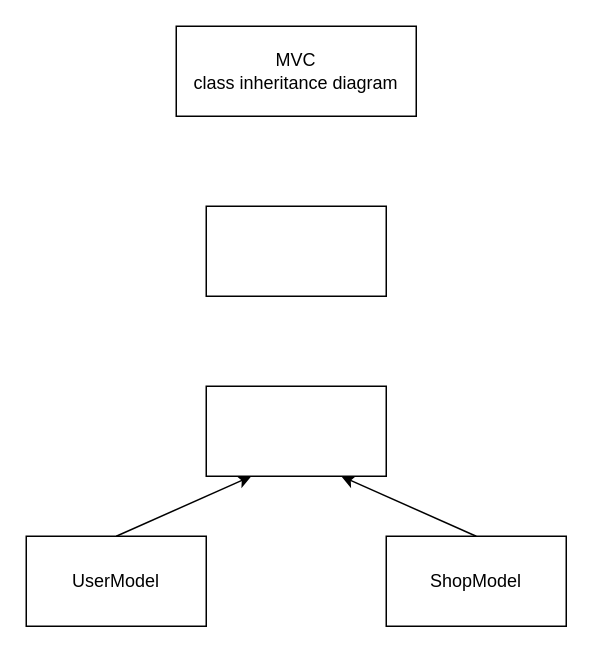
The diagram is 593 pixels wide and 653 high, and some of its shapes have lost their labels. Here are the shapes that lost their labels. From the top down, the box of each, then its label:
(205, 205, 386, 296): PageController
(205, 385, 386, 476): PageModel
